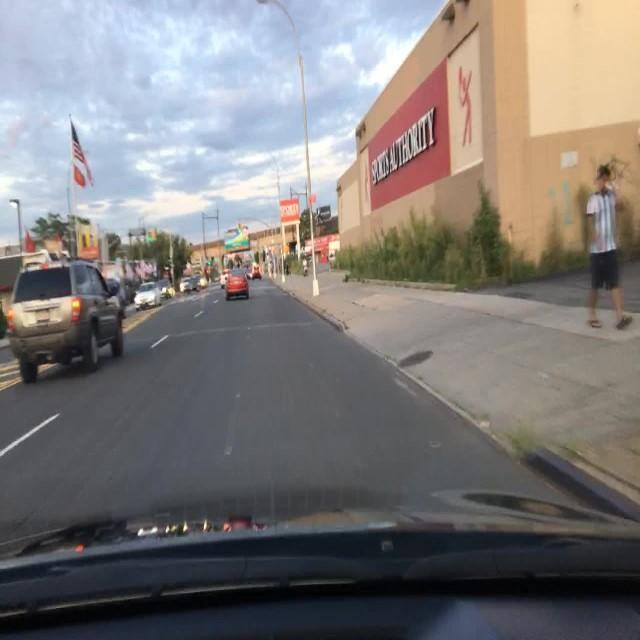normal: (0, 223, 146, 393), (196, 254, 277, 307)
